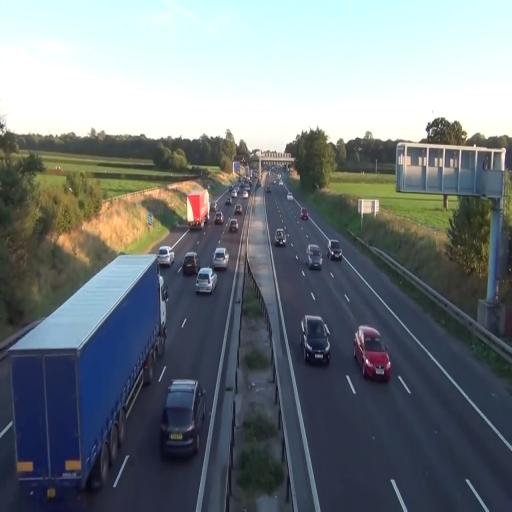vehicle: (0, 252, 168, 502), (160, 378, 205, 458), (353, 326, 391, 380), (301, 315, 332, 366), (186, 188, 210, 228), (195, 267, 217, 294), (212, 246, 229, 271), (182, 251, 198, 277), (306, 243, 322, 268), (157, 246, 175, 268), (274, 226, 288, 248), (328, 240, 342, 261), (227, 219, 238, 235), (214, 209, 224, 225), (300, 209, 308, 221)
